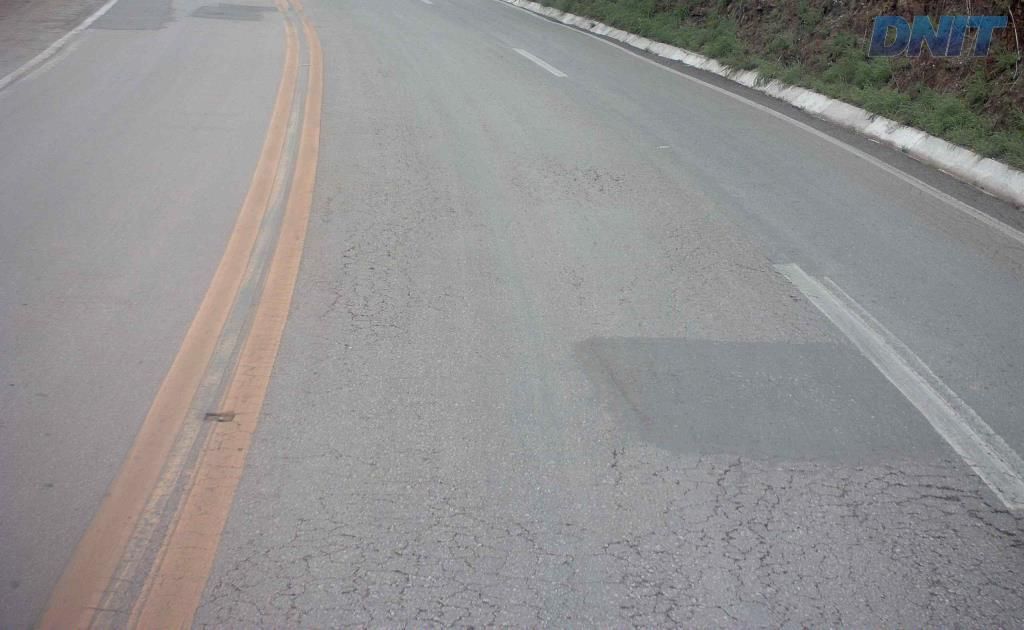crack: (966, 508, 1017, 549), (977, 571, 1023, 613)
